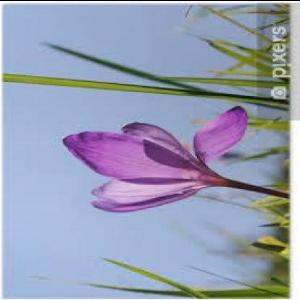Saffron: (62, 107, 255, 210)
